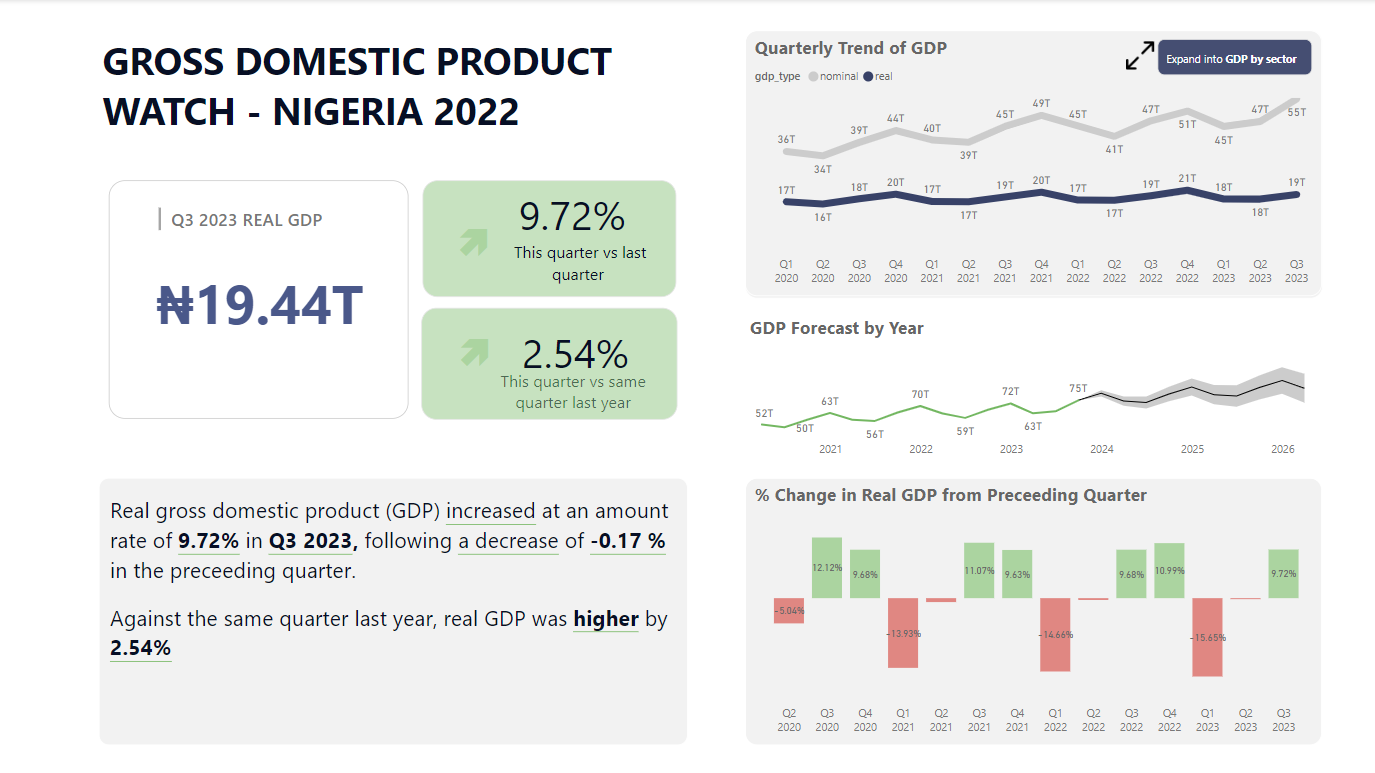

The page's visual inventory and layout, read from the dashboard file:
{"tool":"powerbi","page":{"name":"Page 1","canvas":[1366,768],"ordinal":0},"visuals":[{"type":"image","title":"expand button","box":[1110.1,37.7,42.5,37.8],"z":0,"group":"g3"},{"type":"textbox","box":[106.9,161.8,585,265.8],"z":0},{"type":"textbox","title":"QoQ background","box":[419,179.7,251.9,116],"z":0,"group":"g1"},{"type":"textbox","title":"YoY description","box":[470.7,362.3,197.5,54.9],"z":0,"group":"g2"},{"type":"textbox","title":"background","box":[96.7,31.3,613,118.7],"z":1000},{"type":"textbox","title":"expand text","box":[1148,40.3,153.8,35.7],"z":1000,"group":"g3"},{"type":"card","title":"QoQ text","fields":{"Values":["measures_.% QoQ"]},"box":[443.7,154.9,248.1,116],"z":1000,"group":"g1"},{"type":"textbox","title":"YoY background","box":[418.5,305.9,254.3,111.1],"z":1000,"group":"g2"},{"type":"textbox","title":"background - line","box":[739.1,31.3,573.5,266],"z":2000},{"type":"card","title":"QoQ indicator","fields":{"Values":["measures_.QoQ indicator"]},"box":[432.6,203.1,74.1,74.1],"z":2000,"group":"g1"},{"type":"card","title":"YoY text","fields":{"Values":["measures_.% YoY"]},"box":[450.6,296.1,242,108.6],"z":2000,"group":"g2"},{"type":"card","fields":{"Values":["measures_.current real gdp"]},"box":[107.4,180.2,297.5,237],"z":3000},{"type":"textbox","title":"QoQ description","box":[481.9,234.1,186.4,53.1],"z":3000,"group":"g1"},{"type":"card","title":"YoY indicator","fields":{"Values":["measures_.YoY indocator"]},"box":[420.9,298.1,101.2,101.2],"z":3000,"group":"g2"},{"type":"textbox","box":[98,475.1,585,265.8],"z":4000},{"type":"textbox","box":[739.5,475.5,573,265.5],"z":5000},{"type":"lineChart","title":"Quarterly Trend of GDP","fields":{"Category":["date table.Quarter Year"],"Y":["measures_.gdp"],"Series":["gdp.gdp_type"]},"box":[739.1,31.3,572.5,264.2],"z":6000},{"type":"multiRowCard","fields":{"Values":["measures_.current quarter text"]},"box":[153.1,202.5,237,45.7],"z":7000},{"type":"group","id":"g1","title":"QoQ","box":[419,154.9,272.8,140.9],"z":8000},{"type":"group","id":"g2","title":"YoY","box":[418.5,296.1,274.1,121.1],"z":9000},{"type":"clusteredColumnChart","title":"% Change in Real GDP from Preceeding Quarter","fields":{"Category":["date table.Quarter Year"],"Y":["measures_.% QoQ"]},"box":[739.1,475.9,573.5,266],"z":10000},{"type":"textbox","box":[103.8,488.2,574.1,214],"z":11000},{"type":"group","id":"g3","title":"Group 1","box":[1110.1,37.7,191.5,37.7],"z":12000},{"type":"lineChart","title":"GDP Forecast by Year","fields":{"Y":["measures_.gdp"],"Category":["date table.date"]},"box":[739.1,313.9,572.5,150],"z":12500},{"type":"group","id":"g4","title":"Group 2","box":[709.7,0,623.8,752.7],"z":13000}]}

Visuals, with their boxes in screenshot pixels (x1, y1, x2, y2), scaled from the page's 1366x768 canvas onto the 1375x773 screenshot:
"expand button" image: <bbox>1117, 38, 1160, 76</bbox>
textbox: <bbox>108, 163, 696, 430</bbox>
"QoQ background" textbox: <bbox>422, 181, 675, 298</bbox>
"YoY description" textbox: <bbox>474, 365, 673, 420</bbox>
"background" textbox: <bbox>97, 32, 714, 151</bbox>
"expand text" textbox: <bbox>1156, 41, 1310, 76</bbox>
"QoQ text" card: <bbox>447, 156, 696, 273</bbox>
"YoY background" textbox: <bbox>421, 308, 677, 420</bbox>
"background - line" textbox: <bbox>744, 32, 1321, 299</bbox>
"QoQ indicator" card: <bbox>435, 204, 510, 279</bbox>
"YoY text" card: <bbox>454, 298, 697, 407</bbox>
card - measures_.current real gdp: <bbox>108, 181, 408, 420</bbox>
"QoQ description" textbox: <bbox>485, 236, 673, 289</bbox>
"YoY indicator" card: <bbox>424, 300, 526, 402</bbox>
textbox: <bbox>99, 478, 688, 746</bbox>
textbox: <bbox>744, 479, 1321, 746</bbox>
"Quarterly Trend of GDP" lineChart: <bbox>744, 32, 1320, 297</bbox>
multiRowCard - measures_.current quarter text: <bbox>154, 204, 393, 250</bbox>
"QoQ" group: <bbox>422, 156, 696, 298</bbox>
"YoY" group: <bbox>421, 298, 697, 420</bbox>
"% Change in Real GDP from Preceeding Quarter" clusteredColumnChart: <bbox>744, 479, 1321, 747</bbox>
textbox: <bbox>104, 491, 682, 707</bbox>
"Group 1" group: <bbox>1117, 38, 1310, 76</bbox>
"GDP Forecast by Year" lineChart: <bbox>744, 316, 1320, 467</bbox>
"Group 2" group: <bbox>714, 0, 1342, 758</bbox>
